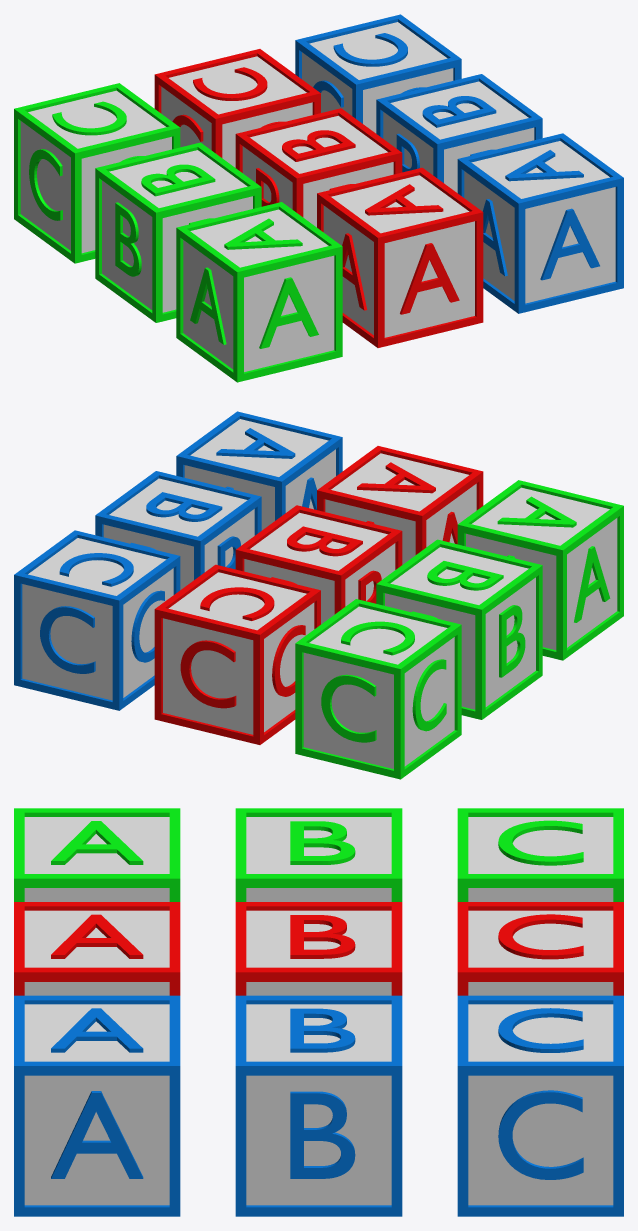
File: ABC.fbx
3 views of the same model, one above another, from view 1: azimuth 30°, elevation 25°; view 2: azimuth 150°, elevation 25°; view 3: azimuth 270°, elevation 25° (orthographic). The views are drawn at different scales.
Parts seen in each view (by area): view 1: Cube.A.Green, Cube.A.Red, Cube.A.Blue, Cube.C.Green, Cube.B.Green, Cube.B.Red, Cube.C.Red, Cube.B.Blue, Cube.C.Blue; view 2: Cube.C.Green, Cube.C.Red, Cube.C.Blue, Cube.A.Green, Cube.B.Green, Cube.B.Red, Cube.A.Red, Cube.B.Blue, Cube.A.Blue; view 3: Cube.B.Blue, Cube.A.Blue, Cube.C.Blue, Cube.B.Green, Cube.B.Red, Cube.A.Green, Cube.A.Red, Cube.C.Green, Cube.C.Red.
Part boxes in pixels (x1,y1,x2,y2): Cube.A.Green: (176, 202, 342, 382); Cube.A.Red: (317, 167, 483, 347); Cube.A.Blue: (457, 133, 623, 313); Cube.C.Green: (14, 83, 180, 263); Cube.B.Green: (95, 142, 261, 322); Cube.B.Red: (235, 108, 402, 227); Cube.C.Red: (154, 49, 320, 167); Cube.B.Blue: (376, 74, 542, 192); Cube.C.Blue: (295, 14, 461, 133); Cube.C.Green: (295, 599, 461, 779); Cube.C.Red: (154, 564, 320, 744); Cube.C.Blue: (14, 530, 180, 710); Cube.A.Green: (457, 480, 623, 660); Cube.B.Green: (376, 539, 542, 719); Cube.B.Red: (235, 505, 402, 624); Cube.A.Red: (317, 446, 483, 564); Cube.B.Blue: (95, 471, 261, 589); Cube.A.Blue: (176, 411, 342, 530); Cube.B.Blue: (235, 995, 402, 1216); Cube.A.Blue: (14, 995, 180, 1216); Cube.C.Blue: (457, 995, 623, 1216); Cube.B.Green: (235, 808, 402, 901); Cube.B.Red: (235, 902, 402, 995); Cube.A.Green: (14, 808, 180, 901); Cube.A.Red: (14, 902, 180, 995); Cube.C.Green: (457, 808, 623, 901); Cube.C.Red: (457, 902, 623, 995).
Bounding box in the file's own units: 1100 × 300 × 1100.
